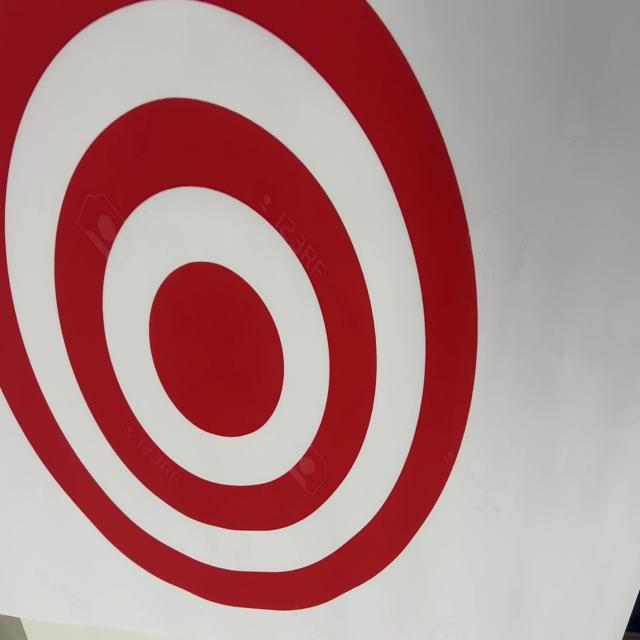target_red: (0, 0, 490, 629)
